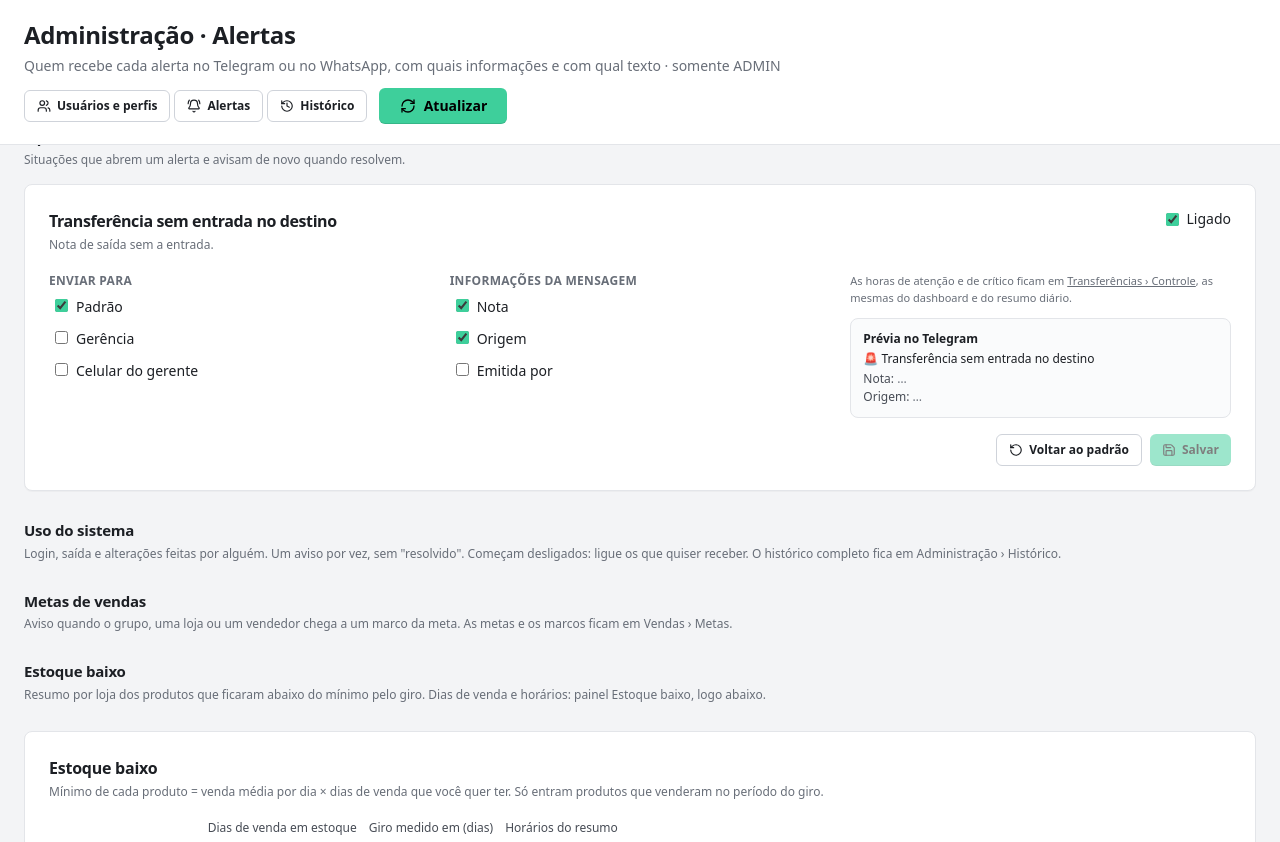
Test case: AdminAlertasPage › volta a regra personalizada ao padrão
(page scrolled)
Click the button "Voltar ao padrão". click: (1069,450)
box: [996,434,1142,466]
(page scrolled)
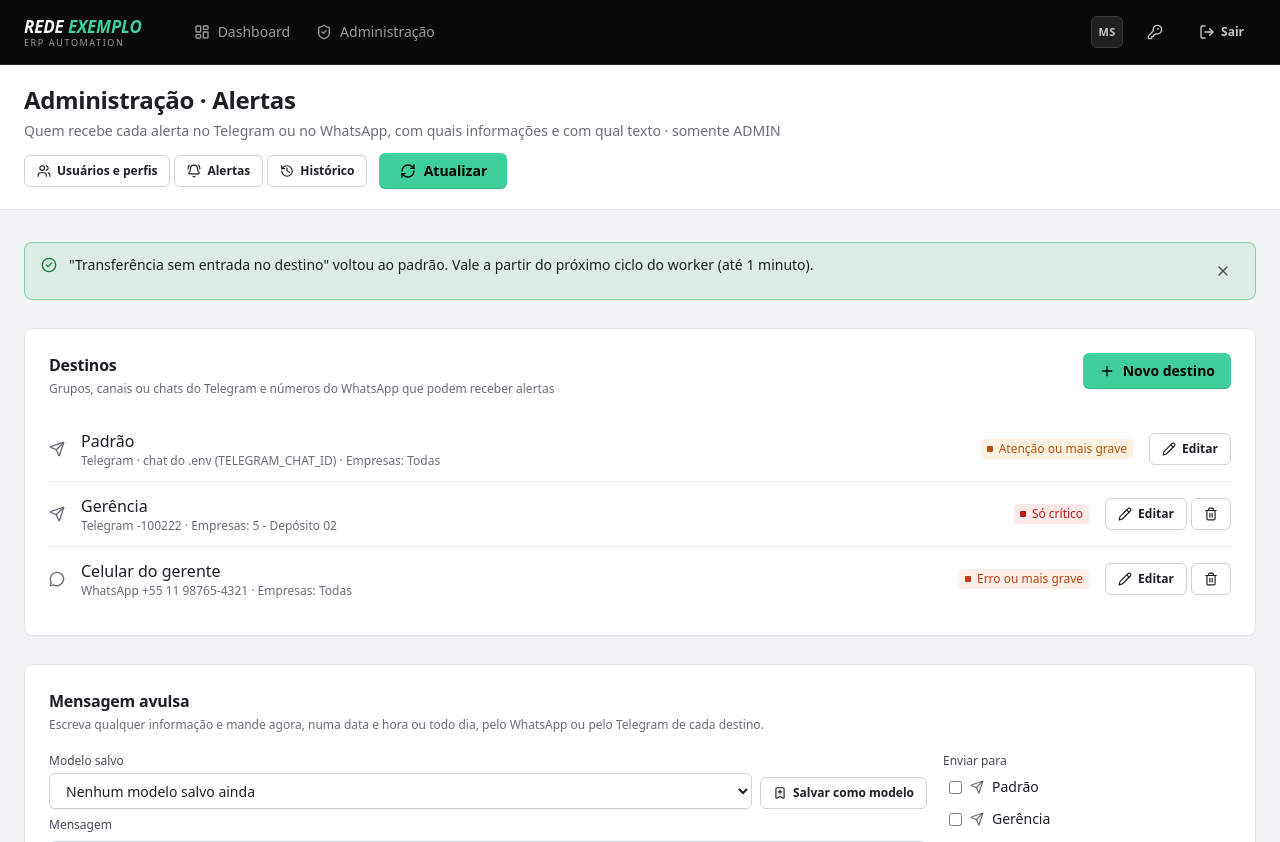
Expected: the text "voltou ao padrão" is shown, [69,255,448,274]
